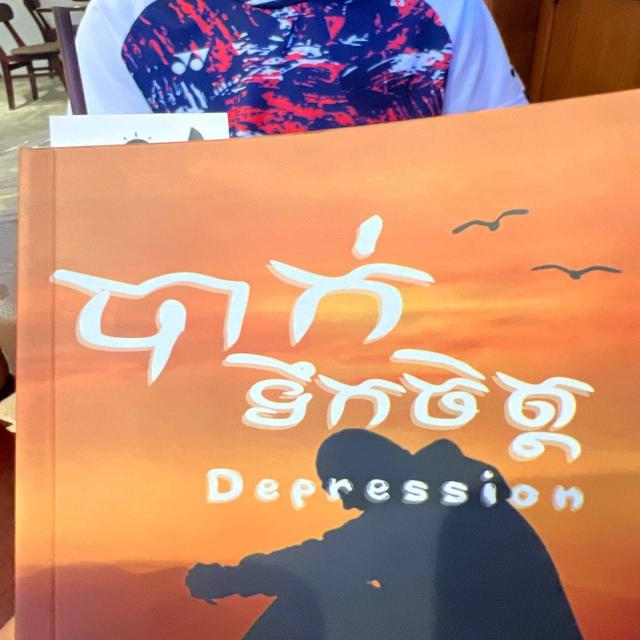Yolov11kh: (43, 202, 443, 388), (221, 350, 615, 465)
